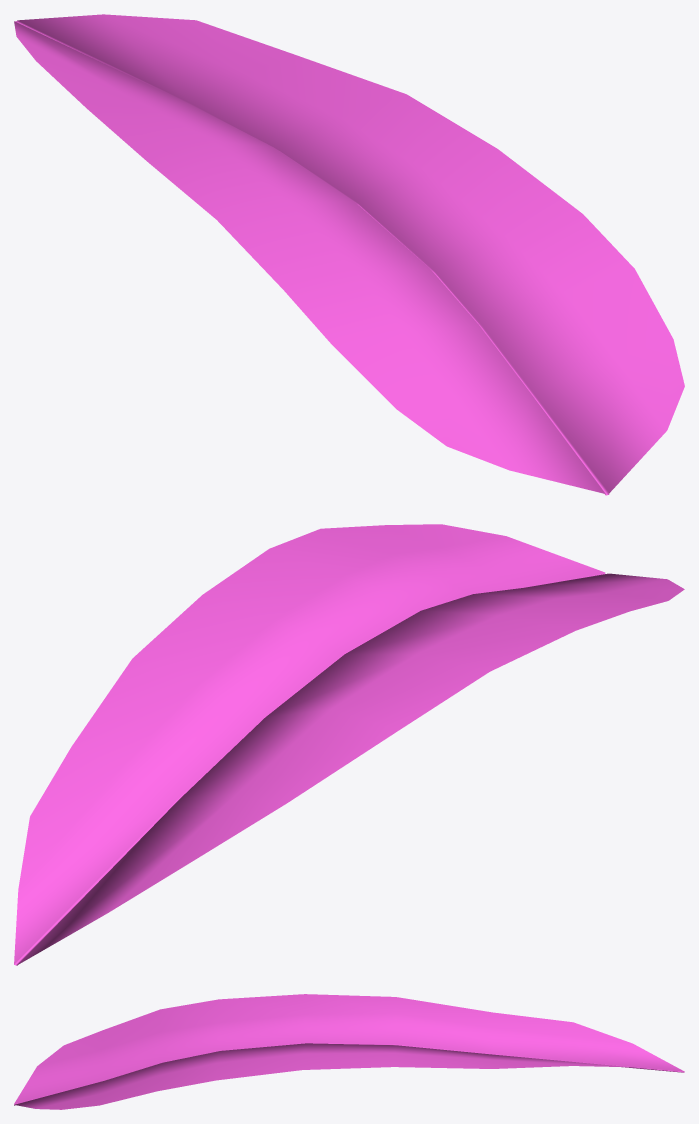
Rendered from petal.fbx.
The picture shows the model from 3 angles, top to bottom: view 1: azimuth 30°, elevation 25°; view 2: azimuth 150°, elevation 25°; view 3: azimuth 270°, elevation 25°; orthographic projection. The views are drawn at different scales.
Visible parts, largest first — view 1: ModelC; view 2: ModelC; view 3: ModelC.
Boxes of the visible parts, x1,y1,x2,y2 form: ModelC: (14, 14, 684, 495); ModelC: (14, 524, 684, 965); ModelC: (14, 994, 684, 1109).
Size of the model in its own units: 90.86 by 37.39 by 305.
